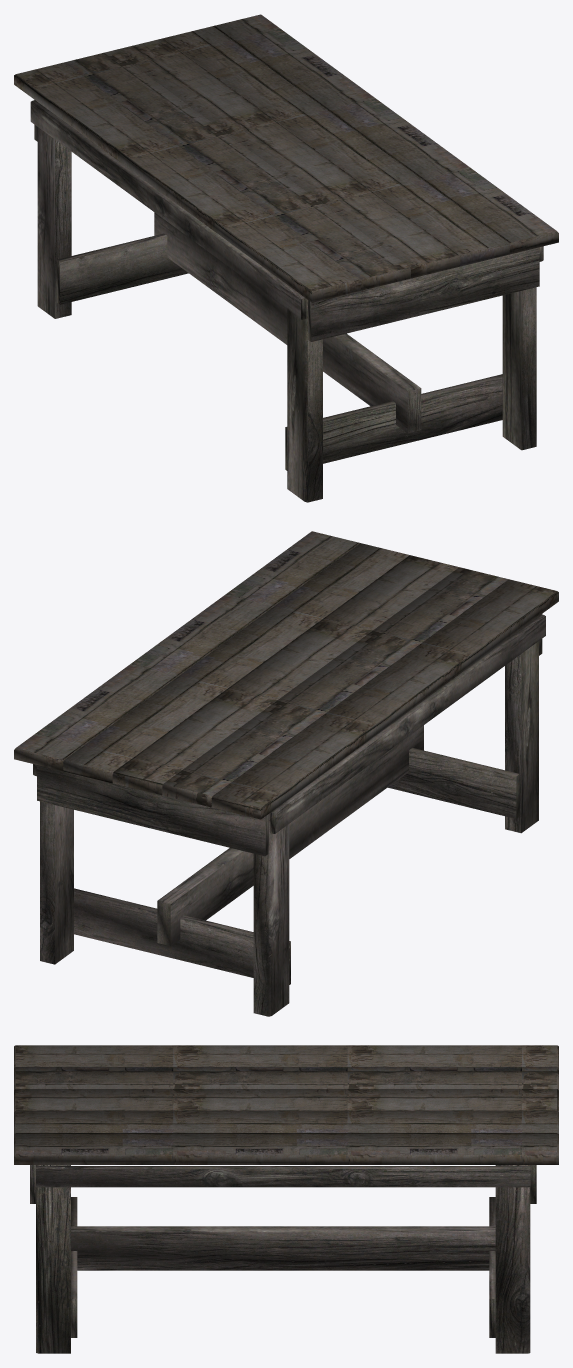
File: blendergltfTable.gltf
3 views of the same model, one above another, from view 1: azimuth 30°, elevation 25°; view 2: azimuth 150°, elevation 25°; view 3: azimuth 270°, elevation 25° (orthographic). The views are drawn at different scales.
Visible parts, largest first — view 1: Table_Top, Table_bot; view 2: Table_Top, Table_bot; view 3: Table_Top, Table_bot.
Boxes of the visible parts, <box> form: Table_Top: <box>14,14,558,302</box>; Table_bot: <box>30,100,543,502</box>; Table_Top: <box>14,531,558,819</box>; Table_bot: <box>33,614,545,1016</box>; Table_Top: <box>14,1045,558,1164</box>; Table_bot: <box>30,1165,536,1353</box>.
Bounding box in the file's own units: 6.48 × 5.55 × 13.53.
2 materials, 2 textured.
